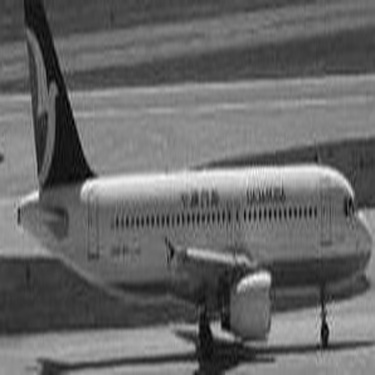airplane: (1, 2, 368, 371)
